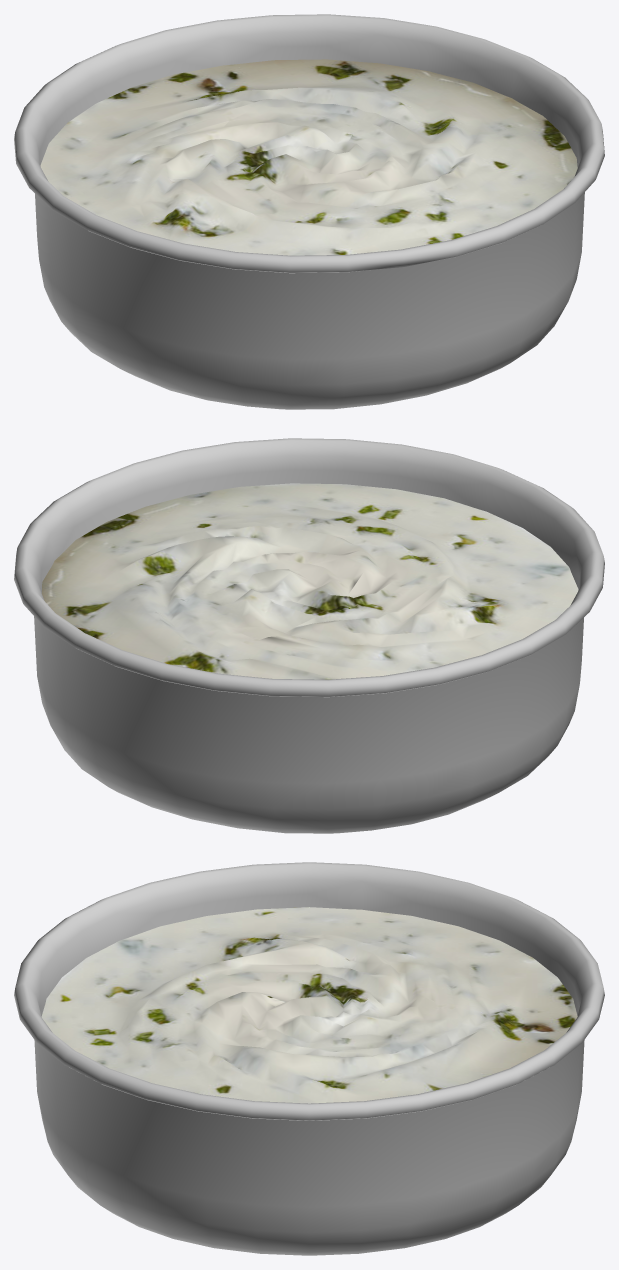
Rendered from Sauce 2.FBX.
The picture shows the model from 3 angles, top to bottom: view 1: azimuth 30°, elevation 25°; view 2: azimuth 150°, elevation 25°; view 3: azimuth 270°, elevation 25°; orthographic projection.
Visible parts, largest first — view 1: sauce 2; view 2: sauce 2; view 3: sauce 2.
Part boxes in pixels (bbox=[...]): sauce 2: bbox=[14, 14, 604, 409]; sauce 2: bbox=[14, 438, 604, 833]; sauce 2: bbox=[14, 862, 604, 1255].
Size of the model in its own units: 8.4 by 2.98 by 8.4.
